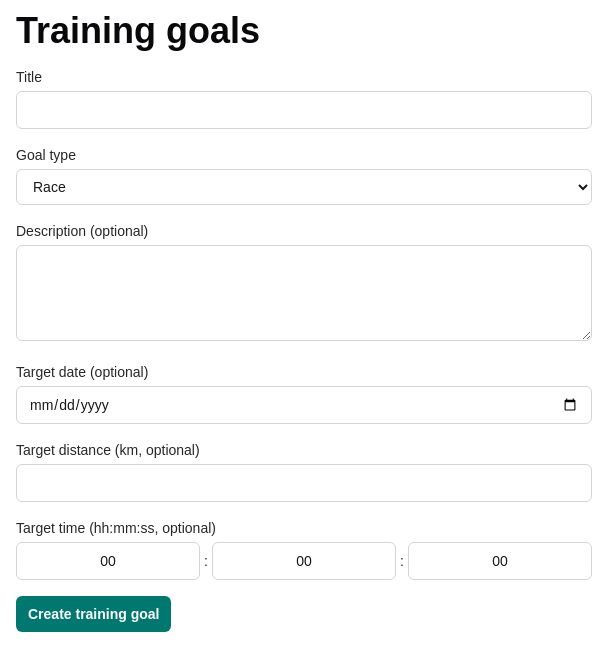
creates a goal, shows its details immediately and refetches the list
Type "My goal" into the field labelled "Title". click: (304, 110)
box: x1=16 y1=91 x2=592 y2=129
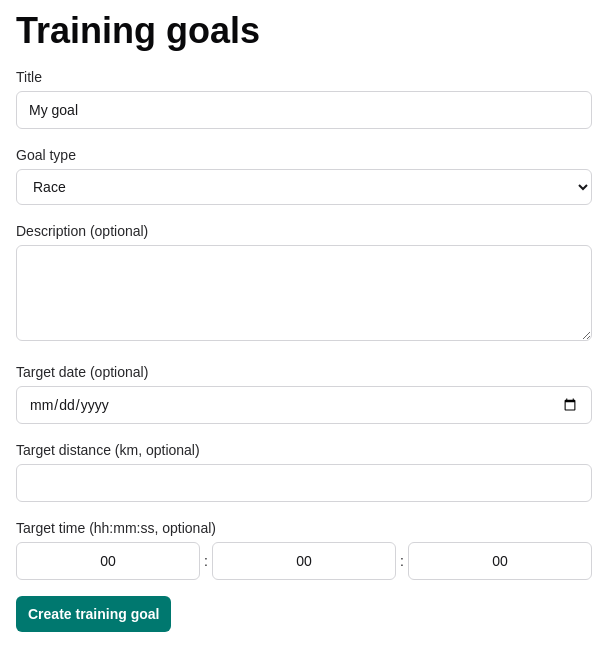
Click the button "Create training goal". click: (94, 614)
box: x1=16 y1=596 x2=172 y2=632
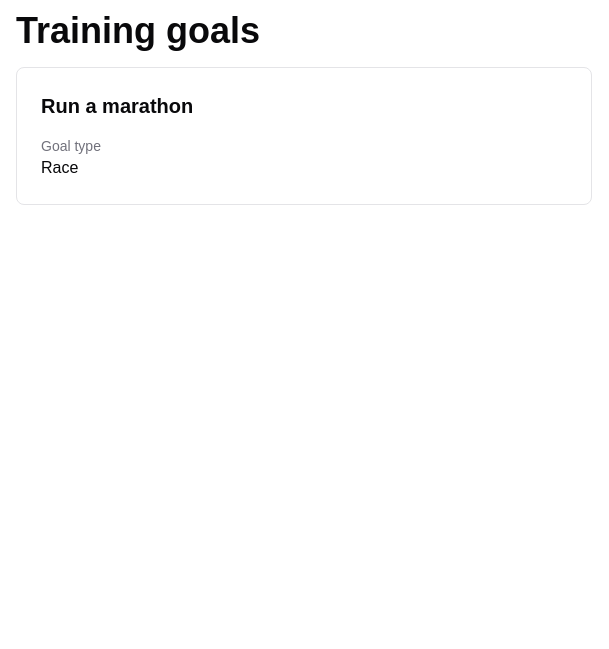
Expected: the heading "Run a marathon" is shown, x1=41 y1=95 x2=193 y2=117
Expected: the button "Create training goal" is gone
